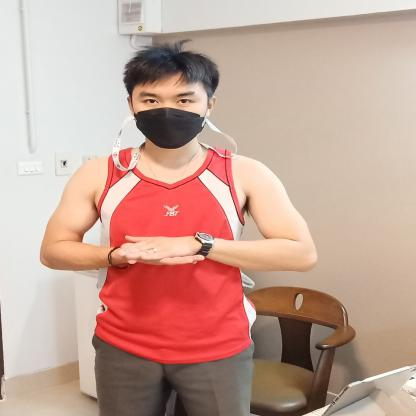Love: (88, 218, 236, 288)
